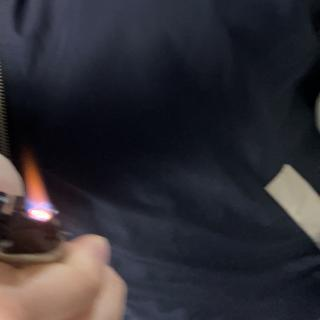fire: (22, 150, 58, 220)
